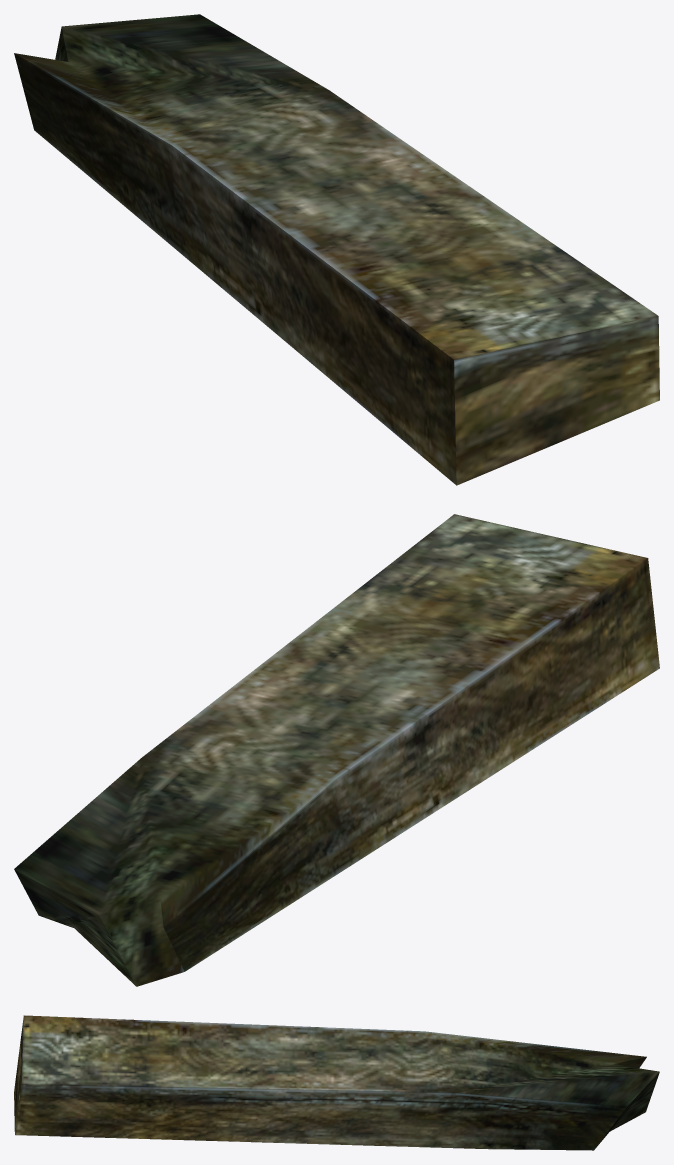
3 views of the same model, one above another, from view 1: azimuth 30°, elevation 25°; view 2: azimuth 150°, elevation 25°; view 3: azimuth 270°, elevation 25° (orthographic). The views are drawn at different scales.
Visible parts, largest first — view 1: hr_wd3; view 2: hr_wd3; view 3: hr_wd3.
Part boxes in pixels (box(x1,y1,x2,y2)): hr_wd3: box(14, 14, 659, 485); hr_wd3: box(14, 514, 659, 986); hr_wd3: box(14, 1015, 659, 1150).
Size of the model in its own units: 0.627 by 0.343 by 2.55.
1 material, 1 textured.
